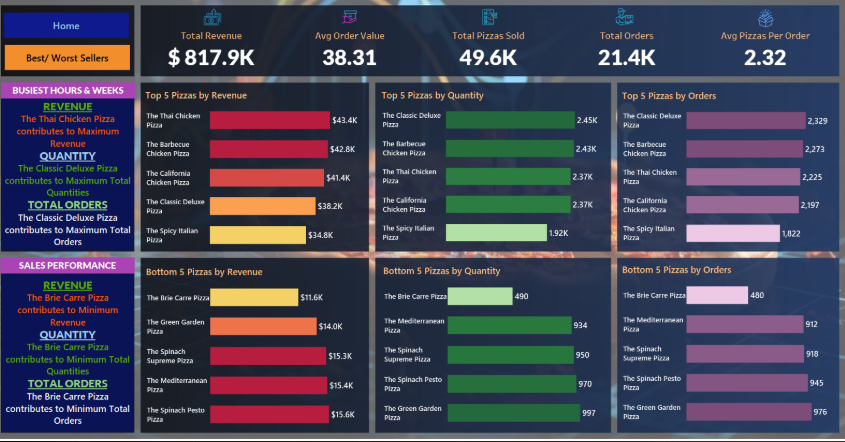

The page's visual inventory and layout, read from the dashboard file:
{"tool":"tableau","page":{"name":"Best and worst seller","canvas":[1600,900],"ordinal":0},"visuals":[{"type":"image","param":"C:/Users/hp/Downloads/Pizza Tableau 2.jpg","box":[8,8,1584,884]},{"type":"filter","title":"Sheet 1","param":"[federated.0io4gk30kpgish1eahrht1i6fmum].[none:order_date:qk]","box":[1292,19,273,65]},{"type":"text","box":[581,28,409,51]},{"type":"image","param":"C:/Users/hp/Downloads/Pizza Sales Images-20250715T074519Z-1-001/Pizza Sales Imag","box":[535,37,37,37]},{"type":"image","param":"C:/Users/hp/Downloads/Pizza Sales Images-20250715T074519Z-1-001/Pizza Sales Imag","box":[1160,93,46,49]},{"type":"image","param":"C:/Users/hp/Downloads/Pizza Sales Images-20250715T074519Z-1-001/Pizza Sales Imag","box":[1415,93,52,54]},{"type":"dashboard-object","box":[31,95,244,128]},{"type":"image","param":"C:/Users/hp/Downloads/Pizza Sales Images-20250715T074519Z-1-001/Pizza Sales Imag","box":[903,97,48,45]},{"type":"image","param":"C:/Users/hp/Downloads/Pizza Sales Images-20250715T074519Z-1-001/Pizza Sales Imag","box":[644,100,49,43]},{"type":"image","param":"C:/Users/hp/Downloads/Pizza Sales Images-20250715T074519Z-1-001/Pizza Sales Imag","box":[380,101,55,44]},{"type":"worksheet","title":"Sheet 1","mark":"Automatic","box":[289,147,1275,77]},{"type":"text","box":[33,236,243,67]},{"type":"worksheet","title":"Sheet 7 (5)","mark":"Automatic","rows":["pizza_name"],"cols":["Calculation_1722908363927445505"],"box":[1159,236,407,308]},{"type":"worksheet","title":"Sheet 7 (3)","mark":"Automatic","rows":["pizza_name"],"cols":["Calculation_1722908363927822339"],"box":[717,237,430,308]},{"type":"worksheet","title":"Sheet 7","mark":"Automatic","rows":["pizza_name"],"cols":["Calculation_1722908363924570112"],"box":[289,238,416,306]},{"type":"worksheet","title":"Sheet 7 (6)","mark":"Automatic","rows":["pizza_name"],"cols":["Calculation_1722908363927445505"],"box":[1158,555,409,326]},{"type":"worksheet","title":"Sheet 7 (2)","mark":"Automatic","rows":["pizza_name"],"cols":["Calculation_1722908363924570112"],"box":[288,557,417,318]},{"type":"worksheet","title":"Sheet 7 (4)","mark":"Automatic","rows":["pizza_name"],"cols":["Calculation_1722908363927822339"],"box":[716,558,431,316]}]}

Visuals, with their boxes on the page's 1600x900 design canvas (x1, y1, x2, y2). These are canvas units, not pixel positions in the 845x442 screenshot, which may show the page scaled, cropped or inside an application window:
image: crop(8, 8, 1592, 892)
"Sheet 1" filter: crop(1292, 19, 1565, 84)
text: crop(581, 28, 990, 79)
image: crop(535, 37, 572, 74)
image: crop(1160, 93, 1206, 142)
image: crop(1415, 93, 1467, 147)
dashboard-object: crop(31, 95, 275, 223)
image: crop(903, 97, 951, 142)
image: crop(644, 100, 693, 143)
image: crop(380, 101, 435, 145)
"Sheet 1" worksheet: crop(289, 147, 1564, 224)
text: crop(33, 236, 276, 303)
"Sheet 7 (5)" worksheet: crop(1159, 236, 1566, 544)
"Sheet 7 (3)" worksheet: crop(717, 237, 1147, 545)
"Sheet 7" worksheet: crop(289, 238, 705, 544)
"Sheet 7 (6)" worksheet: crop(1158, 555, 1567, 881)
"Sheet 7 (2)" worksheet: crop(288, 557, 705, 875)
"Sheet 7 (4)" worksheet: crop(716, 558, 1147, 874)
